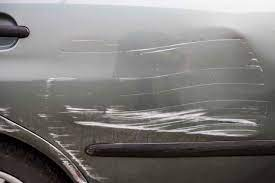scratch: (64, 91, 265, 144)
